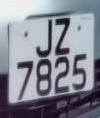2: (52, 51, 73, 100)
5: (70, 51, 89, 96)
7: (15, 54, 37, 104)
8: (34, 56, 55, 101)
J: (33, 15, 55, 62)
Z: (52, 15, 74, 61)
